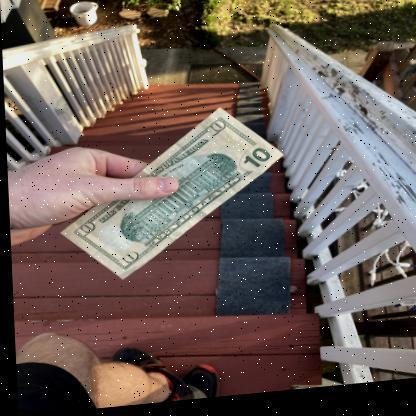ten-back: (59, 111, 284, 281)
